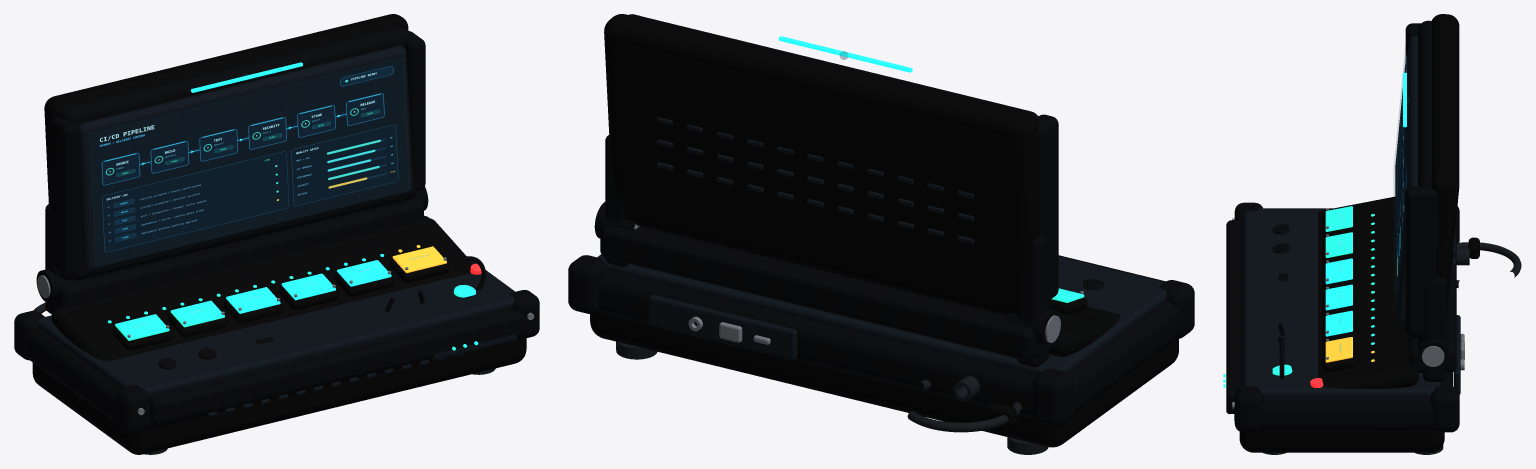
Rendered from pipeline-console.glb.
The picture shows the model from 3 angles, left to right: view 1: azimuth 30°, elevation 25°; view 2: azimuth 150°, elevation 25°; view 3: azimuth 270°, elevation 25°; orthographic projection. The views are drawn at different scales.
Parts seen in each view (by area): view 1: Display_GlassOverlay, Pipeline_Display, Console_ShadowGap, Console_ControlDeck, Console_Underbody, Console_FrontPalmEdge, Console_RearHingeShelf, Display_MetalFrame, Display_InnerBezel, Display_BackShell, Console_MetalSkirt, Display_SideCap_L (+20 smaller); view 2: Display_BackShell, Console_MetalSkirt, Console_RearHingeShelf, Console_Underbody, Console_ShadowGap, Rear_IOPanel, Display_SideCap_L, Display_HingeArm_L, Console_Armor_LB, Console_ControlDeck, Console_Armor_RB, Rear_ServiceCable_Coil (+5 smaller); view 3: Console_ShadowGap, Console_ControlDeck, Console_MetalSkirt, Display_BackShell, Console_Underbody, Display_SideCap_R, Console_FrontPalmEdge, Display_MetalFrame, Display_InnerBezel, Display_HingeArm_R, Pipeline_Display, Console_RearHingeShelf (+20 smaller).
Part boxes in pixels (<box>): Display_GlassOverlay: <box>89,57,409,266</box>; Pipeline_Display: <box>89,57,408,265</box>; Console_ShadowGap: <box>38,261,515,395</box>; Console_ControlDeck: <box>51,218,473,361</box>; Console_Underbody: <box>32,338,526,454</box>; Console_FrontPalmEdge: <box>149,309,522,424</box>; Console_RearHingeShelf: <box>54,199,423,308</box>; Display_MetalFrame: <box>59,26,417,280</box>; Display_InnerBezel: <box>79,45,412,270</box>; Display_BackShell: <box>44,14,408,280</box>; Console_MetalSkirt: <box>25,307,533,430</box>; Display_SideCap_L: <box>51,116,80,275</box>; Display_BackShell: <box>604,14,1039,315</box>; Console_MetalSkirt: <box>598,270,1181,418</box>; Console_RearHingeShelf: <box>600,225,1038,360</box>; Console_Underbody: <box>590,312,1178,447</box>; Console_ShadowGap: <box>597,254,1166,375</box>; Rear_IOPanel: <box>648,294,797,359</box>; Display_SideCap_L: <box>1038,114,1058,300</box>; Display_HingeArm_L: <box>1017,236,1049,367</box>; Console_Armor_LB: <box>1032,368,1073,427</box>; Console_ControlDeck: <box>1049,306,1120,356</box>; Console_Armor_RB: <box>568,255,607,314</box>; Rear_ServiceCable_Coil: <box>907,379,1021,432</box>; Console_ShadowGap: <box>1243,208,1439,396</box>; Console_ControlDeck: <box>1318,196,1418,388</box>; Console_MetalSkirt: <box>1234,220,1453,431</box>; Display_BackShell: <box>1417,14,1459,341</box>; Console_Underbody: <box>1239,431,1444,452</box>; Display_SideCap_R: <box>1405,186,1437,335</box>; Console_FrontPalmEdge: <box>1226,220,1240,413</box>; Display_MetalFrame: <box>1404,20,1431,338</box>; Display_InnerBezel: <box>1396,36,1417,322</box>; Display_HingeArm_R: <box>1423,278,1446,381</box>; Pipeline_Display: <box>1395,47,1406,311</box>; Console_RearHingeShelf: <box>1408,216,1456,372</box>.
Size of the model in its own units: 0.824 by 0.5422 by 0.53.
Materials: 13 (5 with a texture image).
